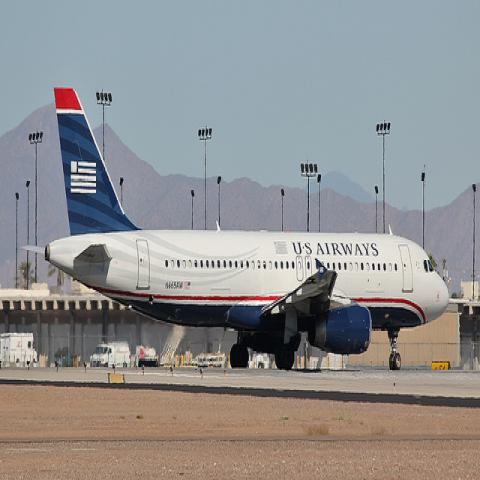truck: (0, 332, 38, 368), (99, 341, 131, 368)
